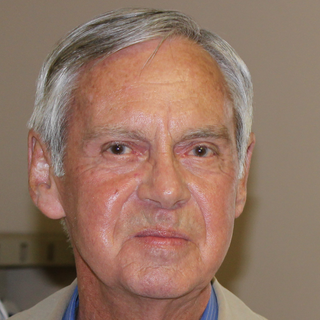eye: (92, 136, 147, 164), (175, 136, 225, 164)
